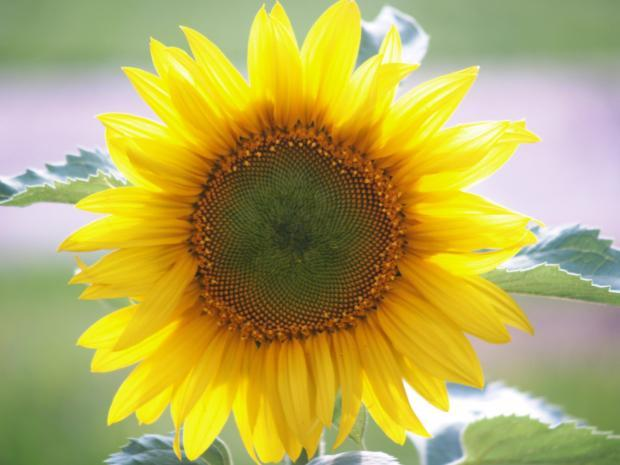sunflowers: (65, 9, 531, 450)
